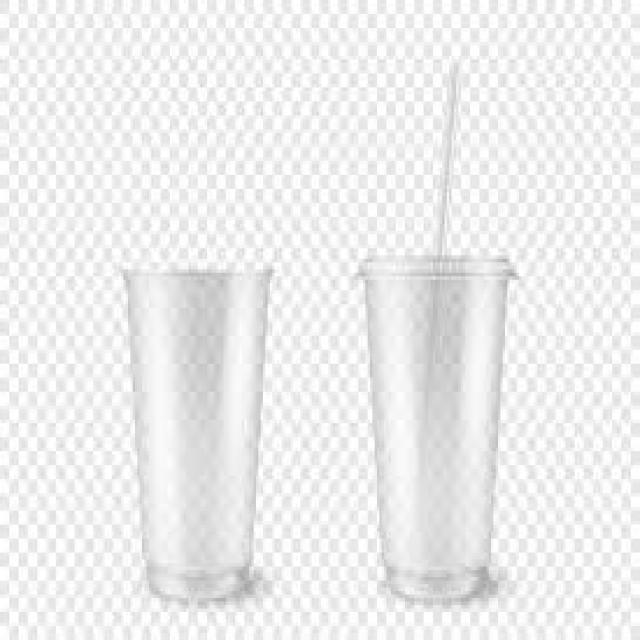cup: (103, 219, 292, 640), (350, 226, 525, 625)
